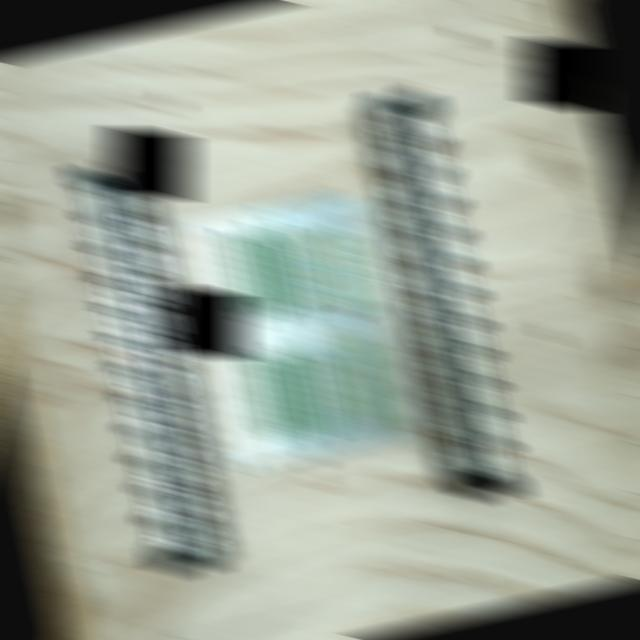Flathead_Block: (369, 84, 522, 504)
Phillips_Block: (70, 159, 219, 578)
Terminal_1: (321, 223, 370, 316), (344, 333, 391, 425)
Terminal_2: (244, 226, 290, 314), (294, 345, 340, 432), (244, 354, 289, 442), (269, 350, 314, 437), (268, 223, 313, 309)
